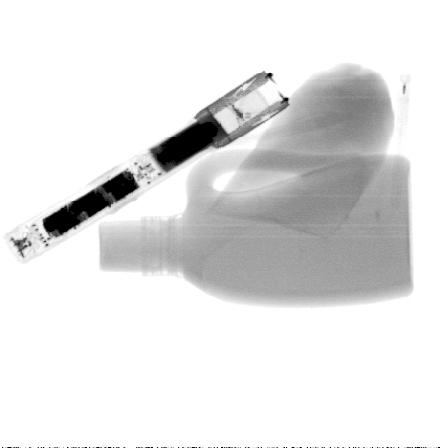Baton: (0, 69, 292, 267)
